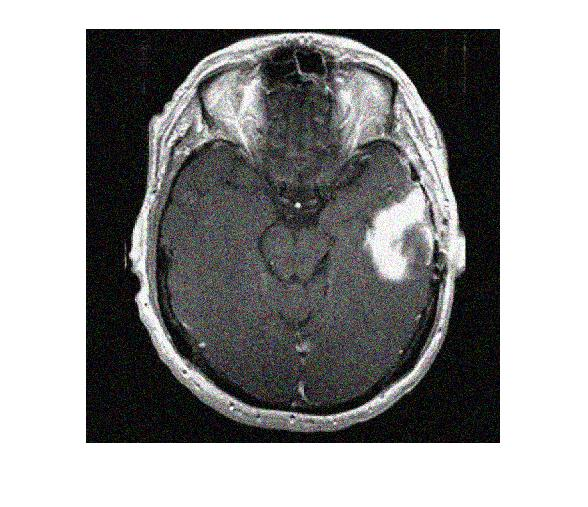Brain_Cancer: (361, 182, 440, 286)
